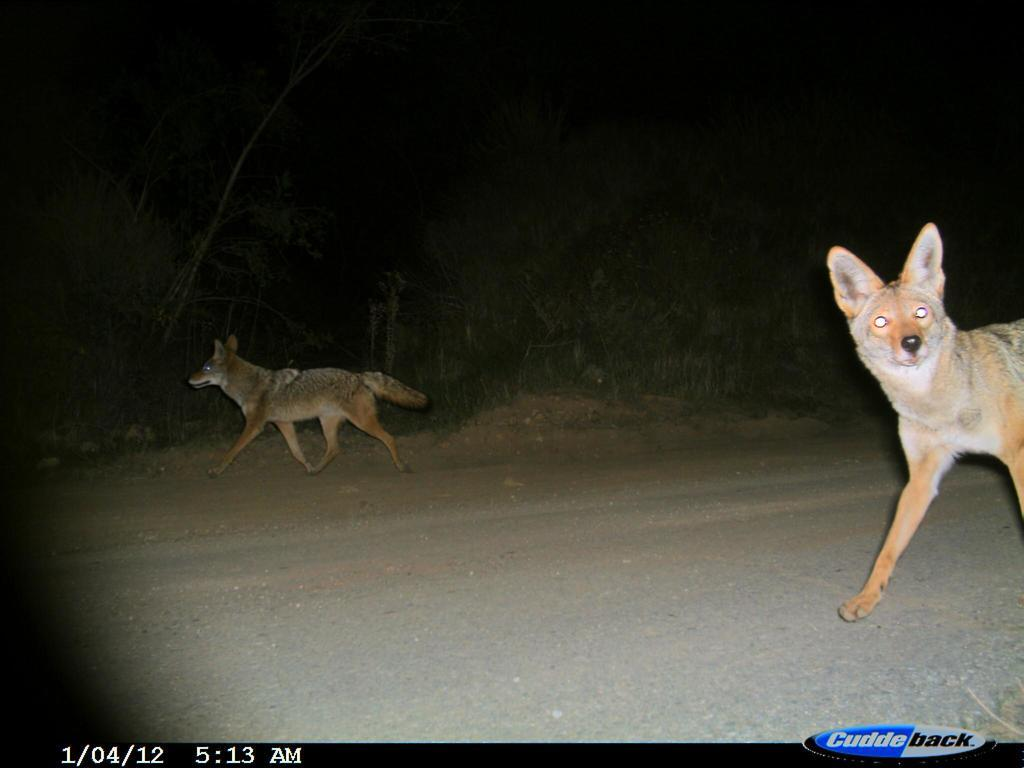coyote: (806, 213, 1021, 623), (180, 337, 428, 473)
